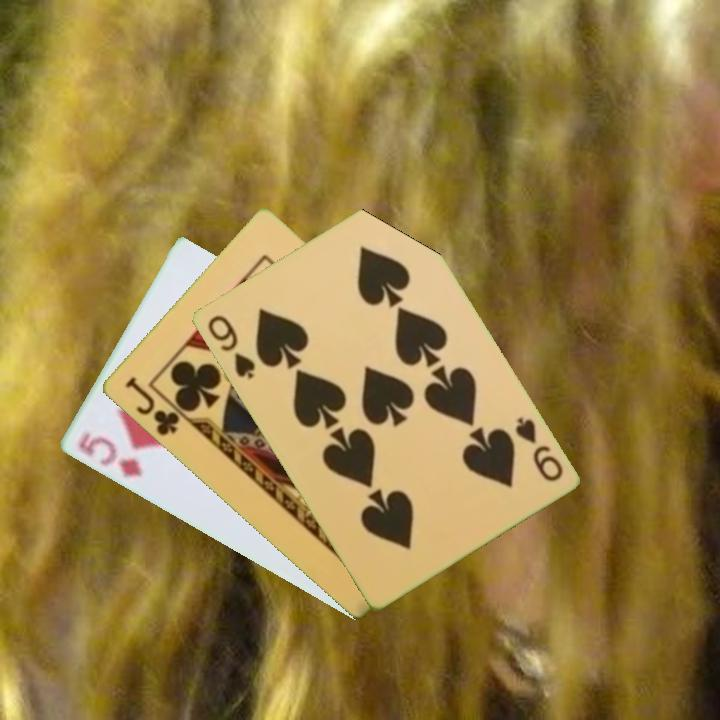5d: (74, 429, 144, 481)
9s: (510, 413, 566, 485), (203, 311, 258, 382)
Jc: (120, 373, 191, 439)
